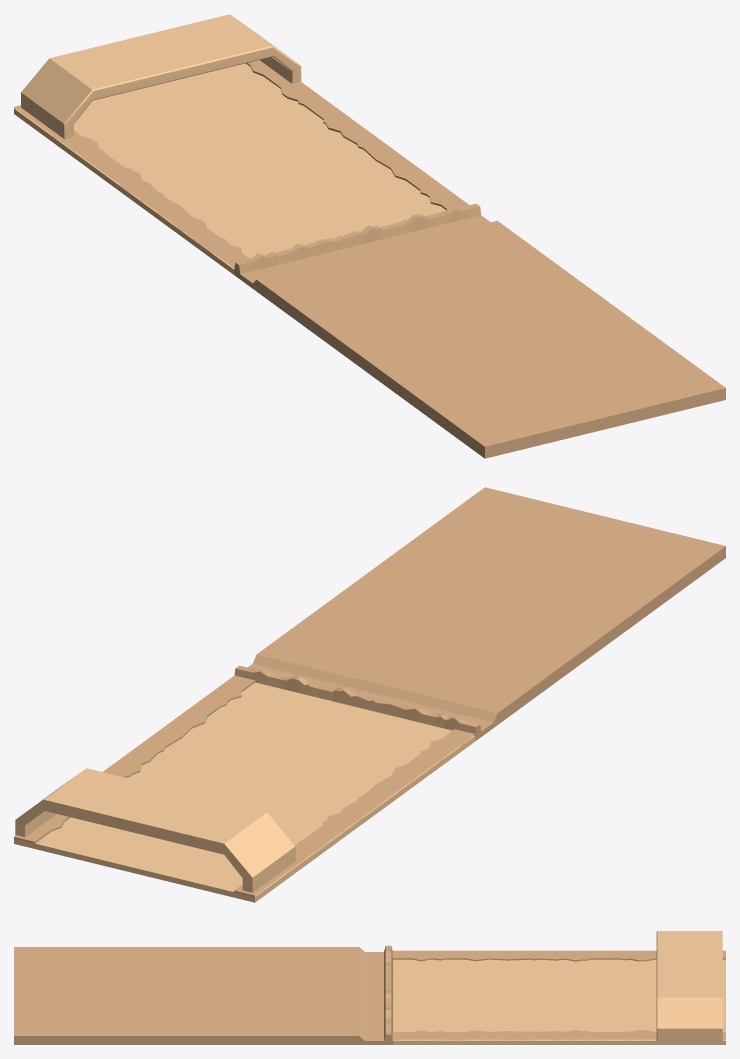
The picture shows the model from 3 angles, top to bottom: view 1: azimuth 30°, elevation 25°; view 2: azimuth 150°, elevation 25°; view 3: azimuth 270°, elevation 25°; orthographic projection. The views are drawn at different scales.
Visible parts, largest first — view 1: BG, Tunnel, Side_Right, Side_Right1, Wall; view 2: BG, Tunnel, Side_Right1, Side_Right, Wall; view 3: BG, Tunnel, Side_Right1, Side_Right, Wall.
Boxes of the visible parts, x1,y1,x2,y2 form: BG: [14, 63, 725, 458]; Tunnel: [21, 14, 301, 138]; Side_Right: [246, 60, 469, 209]; Side_Right1: [14, 105, 249, 267]; Wall: [234, 203, 480, 273]; BG: [14, 487, 725, 902]; Tunnel: [15, 768, 295, 892]; Side_Right1: [234, 729, 475, 897]; Side_Right: [14, 675, 255, 843]; Wall: [234, 665, 480, 735]; BG: [14, 947, 725, 1044]; Tunnel: [656, 931, 722, 1041]; Side_Right1: [392, 950, 725, 961]; Side_Right: [392, 1030, 725, 1040]; Wall: [384, 945, 392, 1040].
Size of the model in its own units: 1381 by 269 by 4656.
